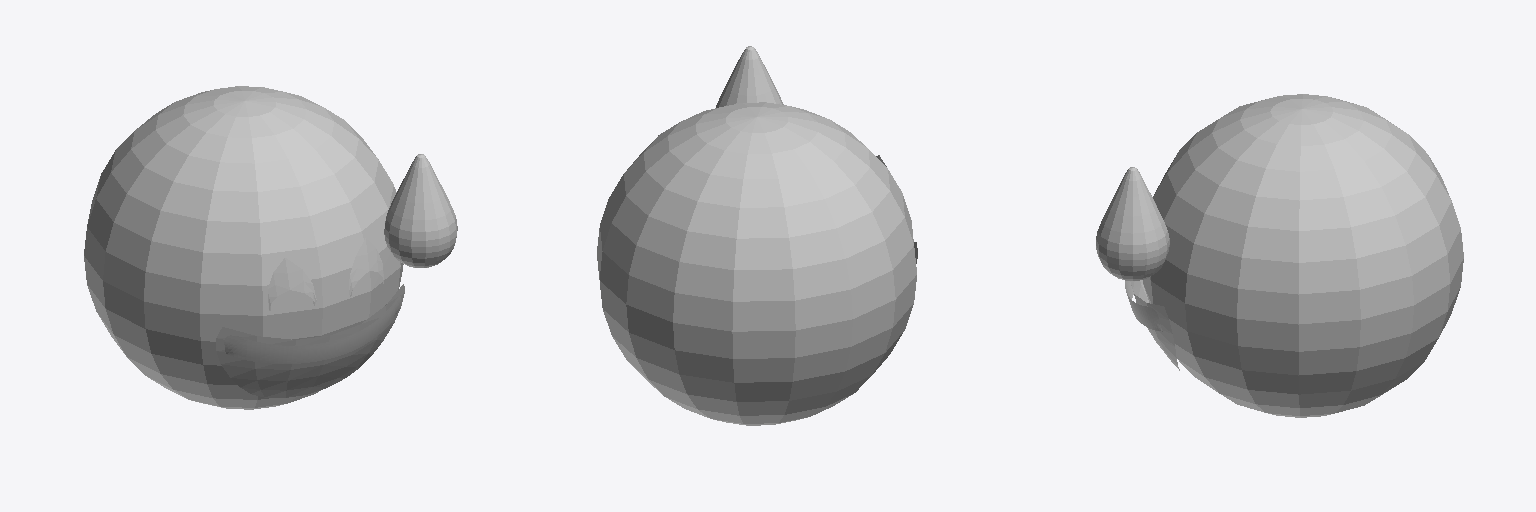
The model's file is Sweat.obj.
3 renders of one model, left to right at view 1: azimuth 30°, elevation 25°; view 2: azimuth 150°, elevation 25°; view 3: azimuth 270°, elevation 25°, orthographic.
Parts seen in each view (by area): view 1: Eyes_line_008; view 2: Eyes_line_008; view 3: Eyes_line_008.
Boxes of the visible parts, <box> form: Eyes_line_008: <box>84,86,457,409</box>; Eyes_line_008: <box>597,46,917,425</box>; Eyes_line_008: <box>1096,94,1463,417</box>.
Size of the model in its own units: 4 by 4 by 4.54.